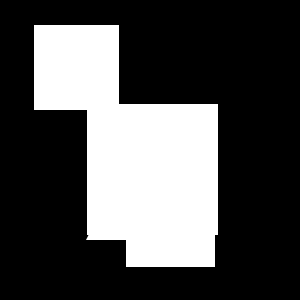circle: (87, 104, 218, 235), (126, 178, 215, 267), (34, 25, 119, 110)
triangle: (86, 188, 138, 240)
